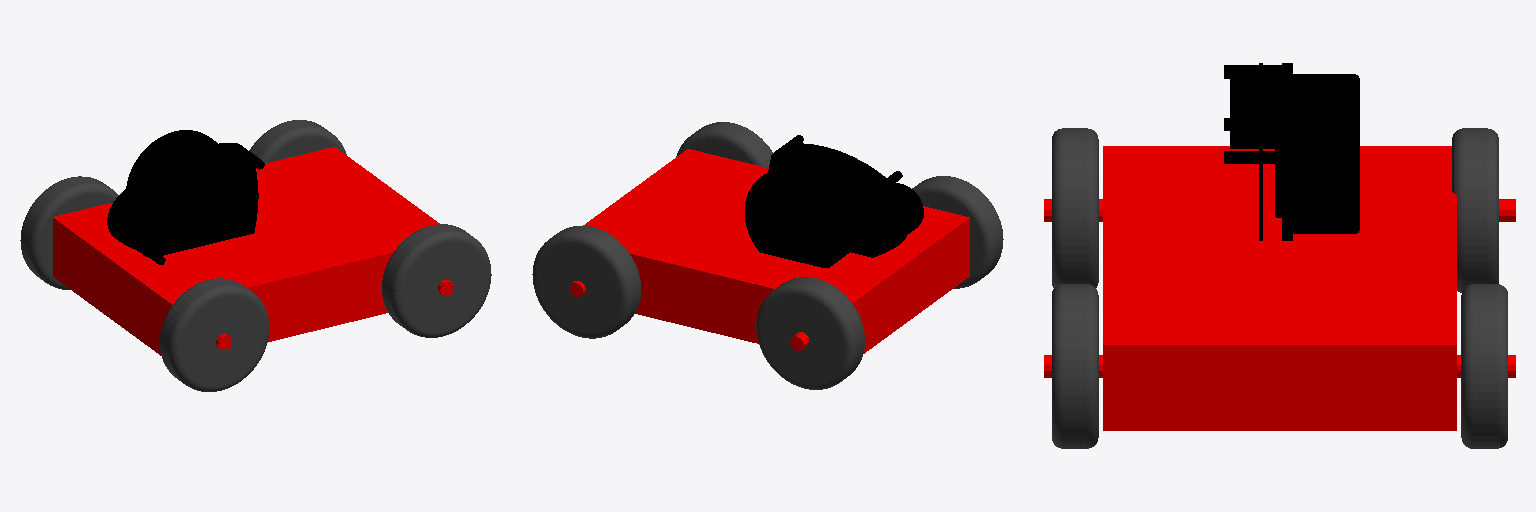
URDF robot description (model):
<?xml version="1.0" encoding="utf-8"?>
<!-- This URDF was automatically created by SolidWorks to URDF Exporter! Originally created by [author] ([email redacted]) 
     Commit Version: 1.5.1-0-g916b5db  Build Version: 1.5.7152.31018
     For more information, please see http://wiki.ros.org/sw_urdf_exporter -->
<robot
  name="model">
  <link
    name="base_link">
    <inertial>
      <origin
        xyz="-0.24468 -0.032762 0.15137"
        rpy="0 0 0" />
      <mass
        value="0.41067" />
      <inertia
        ixx="1"
        ixy="2.8611E-20"
        ixz="-2.4187E-20"
        iyy="1"
        iyz="2.3129E-20"
        izz="1" />
    </inertial>
    <visual>
      <origin
        xyz="0 0 0"
        rpy="0 0 0" />
      <geometry>
        <mesh
          filename="package://model/meshes/base_link.STL" />
      </geometry>
      <material
        name="">
        <color
          rgba="255 0 0 255" />
      </material>
    </visual>
    <collision>
      <origin
        xyz="0 0 0"
        rpy="0 0 0" />
      <geometry>
        <mesh
          filename="package://model/meshes/base_link.STL" />
      </geometry>
    </collision>
  </link>
  <gazebo reference="base_link">
    <material>Gazebo/Orange</material>
  </gazebo>
  <link
    name="wheelLF">
    <inertial>
      <origin
        xyz="-5.5511E-17 -6.9389E-18 0.01"
        rpy="0 0 0" />
      <mass
        value="0.073114" />
      <inertia
        ixx="2.4579E-05"
        ixy="-1.4998E-40"
        ixz="-8.8233E-24"
        iyy="2.4579E-05"
        iyz="-3.3694E-38"
        izz="4.4495E-05" />
    </inertial>
    <visual>
      <origin
        xyz="0 0 0"
        rpy="0 0 0" />
      <geometry>
        <mesh
          filename="package://model/meshes/wheelLF.STL" />
      </geometry>
      <material
        name="">
        <color
          rgba="0.29804 0.29804 0.29804 1" />
      </material>
    </visual>
    <collision>
      <origin
        xyz="0 0 0"
        rpy="0 0 0" />
      <geometry>
        <mesh
          filename="package://model/meshes/wheelLF.STL" />
      </geometry>
    </collision>
  </link>
  <gazebo reference="wheelLF">
    <material>Gazebo/Black</material>
  </gazebo>
  <joint
    name="jointLF"
    type="continuous">
    <origin
      xyz="-0.3229 -0.22837 -0.032762"
      rpy="1.5708 0 0" />
    <parent
      link="base_link" />
    <child
      link="wheelLF" />
    <axis
      xyz="0 0 1" />
  </joint>
  <link
    name="wheelRF">
    <inertial>
      <origin
        xyz="5.5511E-17 0 0.01"
        rpy="0 0 0" />
      <mass
        value="0.073114" />
      <inertia
        ixx="2.4579E-05"
        ixy="-1.4998E-40"
        ixz="2.7352E-22"
        iyy="2.4579E-05"
        iyz="-3.3694E-38"
        izz="4.4495E-05" />
    </inertial>
    <visual>
      <origin
        xyz="0 0 0"
        rpy="0 0 0" />
      <geometry>
        <mesh
          filename="package://model/meshes/wheelRF.STL" />
      </geometry>
      <material
        name="">
        <color
          rgba="0.29804 0.29804 0.29804 1" />
      </material>
    </visual>
    <collision>
      <origin
        xyz="0 0 0"
        rpy="0 0 0" />
      <geometry>
        <mesh
          filename="package://model/meshes/wheelRF.STL" />
      </geometry>
    </collision>
  </link>
  <gazebo reference="wheelRF">
    <material>Gazebo/Black</material>
  </gazebo>
  <joint
    name="jointRF"
    type="continuous">
    <origin
      xyz="-0.3229 -0.058371 -0.032762"
      rpy="1.5708 0 0" />
    <parent
      link="base_link" />
    <child
      link="wheelRF" />
    <axis
      xyz="0 0 1" />
  </joint>
  <link
    name="wheelLB">
    <inertial>
      <origin
        xyz="0 0 0.01"
        rpy="0 0 0" />
      <mass
        value="0.073114" />
      <inertia
        ixx="2.4579E-05"
        ixy="4.2352E-22"
        ixz="9.5316E-22"
        iyy="2.4579E-05"
        iyz="1.6908E-22"
        izz="4.4495E-05" />
    </inertial>
    <visual>
      <origin
        xyz="0 0 0"
        rpy="0 0 0" />
      <geometry>
        <mesh
          filename="package://model/meshes/wheelLB.STL" />
      </geometry>
      <material
        name="">
        <color
          rgba="0.29804 0.29804 0.29804 1" />
      </material>
    </visual>
    <collision>
      <origin
        xyz="0 0 0"
        rpy="0 0 0" />
      <geometry>
        <mesh
          filename="package://model/meshes/wheelLB.STL" />
      </geometry>
    </collision>
  </link>
  <gazebo reference="wheelLB">
    <material>Gazebo/Black</material>
  </gazebo>
  <joint
    name="jointLB"
    type="continuous">
    <origin
      xyz="-0.16645 -0.22837 -0.032762"
      rpy="1.5708 0.28207 0" />
    <parent
      link="base_link" />
    <child
      link="wheelLB" />
    <axis
      xyz="0 0 1" />
  </joint>
  <link
    name="wheelRB">
    <inertial>
      <origin
        xyz="-3.4694E-18 5.5511E-17 0.01"
        rpy="0 0 0" />
      <mass
        value="0.073114" />
      <inertia
        ixx="2.4579E-05"
        ixy="-2.1176E-22"
        ixz="4.6884E-22"
        iyy="2.4579E-05"
        iyz="-1.0642E-24"
        izz="4.4495E-05" />
    </inertial>
    <visual>
      <origin
        xyz="0 0 0"
        rpy="0 0 0" />
      <geometry>
        <mesh
          filename="package://model/meshes/wheelRB.STL" />
      </geometry>
      <material
        name="">
        <color
          rgba="0.29804 0.29804 0.29804 1" />
      </material>
    </visual>
    <collision>
      <origin
        xyz="0 0 0"
        rpy="0 0 0" />
      <geometry>
        <mesh
          filename="package://model/meshes/wheelRB.STL" />
      </geometry>
    </collision>
  </link>
  <gazebo reference="wheelRB">
    <material>Gazebo/Black</material>
  </gazebo>
  <joint
    name="jointRB"
    type="continuous">
    <origin
      xyz="-0.16645 -0.054371 -0.032762"
      rpy="1.5708 1.5064 0" />
    <parent
      link="base_link" />
    <child
      link="wheelRB" />
    <axis
      xyz="0 0 1" />
  </joint>
  <link
    name="lidar">
    <inertial>
      <origin
        xyz="0 0 0"
        rpy="0 0 0" />
      <mass
        value="0" />
      <inertia
        ixx="0"
        ixy="0"
        ixz="0"
        iyy="0"
        iyz="0"
        izz="0" />
    </inertial>
    <visual>
      <origin
        xyz="0 0 0"
        rpy="0 0 0" />
      <geometry>
        <mesh
          filename="package://model/meshes/lidar.STL" />
      </geometry>
      <material
        name="">
        <color
          rgba="0 0 0 255" />
      </material>
    </visual>
    <collision>
      <origin
        xyz="0 0 0"
        rpy="0 0 0" />
      <geometry>
        <mesh
          filename="package://model/meshes/lidar.STL" />
      </geometry>
    </collision>
  </link>
  <gazebo reference="lidar">
    <material>Gazebo/Black</material>
  </gazebo>
  <joint
    name="lidarjoint"
    type="fixed">
    <origin
      xyz="-0.29589 -0.15066 0.011838"
      rpy="0 3.14 0" />
    <parent
      link="base_link" />
    <child
      link="lidar" />h
    <axis
      xyz="0 0 0" />
  </joint>
    <gazebo reference="lidar">
    <sensor type="ray" name="head_hokuyo_sensor">
      <pose> 0 0 0 0 0 0 </pose>
      <visualize>true</visualize>
      <update_rate>40</update_rate>
      <ray>
        <scan>
          <horizontal>
            <samples>720</samples>
            <resolution>1</resolution>
            <min_angle>-1.57</min_angle>
            <max_angle>1.57</max_angle>
          </horizontal>
        </scan>
        <range>
          <min>0.10</min>
          <max>30.0</max>
          <resolution>0.01</resolution>
        </range>
        <noise>
          <type>gaussian</type>
          <!-- Noise parameters based on published spec for Hokuyo laser
               achieving "+-30mm" accuracy at range < 10m.  A mean of 0.0m and
               stddev of 0.01m will put 99.7% of samples within 0.03m of the true
               reading. -->
          <mean>0.0</mean>
          <stddev>0.01</stddev>
        </noise>
      </ray>
      <plugin name="gazebo_ros_head_hokuyo_controller" filename="libgazebo_ros_laser.so">
        <topicName>/rrbot/laser/scan</topicName>
	<robotNamespace>/</robotNamespace>
        <frameName>lidar</frameName>

      </plugin>
    </sensor>
  </gazebo>
 <gazebo>
  <plugin name="skid_steer_drive_controller" filename="libgazebo_ros_skid_steer_drive.so">
    <updateRate>100.0</updateRate>
    <leftFrontJoint>jointLF</leftFrontJoint>
    <rightFrontJoint>jointRF</rightFrontJoint>
    <leftRearJoint>jointLB</leftRearJoint>
    <rightRearJoint>jointRB</rightRearJoint>
    <wheelSeparation>0.4</wheelSeparation>
    <wheelDiameter>0.25</wheelDiameter>
    <robotBaseFrame>base_link</robotBaseFrame>
    <torque>5</torque>
    <commandTopic>turtle1/cmd_vel</commandTopic>
    <broadcastTF>true</broadcastTF>
    <odometryTopic>odom</odometryTopic>

    <!-- Odometry frame, defaults to `odom` -->
    <odometryFrame>odom</odometryFrame>

    <!-- Robot frame to calculate odometry from, defaults to `base_footprint` -->
    <robotBaseFrame>base_link</robotBaseFrame>

    <!-- Odometry source, 0 for ENCODER, 1 for WORLD, defaults to WORLD -->
    <odometrySource>1</odometrySource>

    <!-- Set to true to publish transforms for the wheel links, defaults to false -->
    <publishWheelTF>true</publishWheelTF>

    <!-- Set to true to publish transforms for the odometry, defaults to true -->
    <publishOdom>true</publishOdom>

    <!-- Set to true to publish sensor_msgs/JointState on /joint_states for the wheel joints, defaults to false -->
    <publishWheelJointState>true</publishWheelJointState>

  </plugin>
</gazebo>
</robot>

--- What the picture shows (computed from the rendered views, not written in the file) ---
The picture shows the robot from 3 angles, left to right: view 1: azimuth 30°, elevation 25°; view 2: azimuth 150°, elevation 25°; view 3: azimuth 270°, elevation 25°; orthographic projection.
Robot: model — 6 links, 5 joints (4 continuous, 1 fixed); root link base_link; default pose: all joints at 0.
Links seen in each view (by area): view 1: base_link, lidar, wheelLF, wheelLB, wheelRF, wheelRB; view 2: base_link, lidar, wheelRB, wheelRF, wheelLF, wheelLB; view 3: base_link, lidar, wheelRB, wheelLB, wheelLF, wheelRF.
Link boxes in pixels (x1=…): base_link: x1=53, y1=147, x2=453, y2=355; lidar: x1=107, y1=130, x2=264, y2=264; wheelLF: x1=160, y1=278, x2=269, y2=391; wheelLB: x1=382, y1=224, x2=491, y2=337; wheelRF: x1=20, y1=176, x2=118, y2=289; wheelRB: x1=249, y1=120, x2=346, y2=163; base_link: x1=569, y1=149, x2=969, y2=353; lidar: x1=745, y1=135, x2=923, y2=267; wheelRB: x1=532, y1=226, x2=640, y2=338; wheelRF: x1=756, y1=277, x2=864, y2=389; wheelLF: x1=912, y1=176, x2=1003, y2=288; wheelLB: x1=676, y1=122, x2=772, y2=167; base_link: x1=1044, y1=146, x2=1515, y2=430; lidar: x1=1224, y1=63, x2=1359, y2=240; wheelRB: x1=1461, y1=284, x2=1507, y2=448; wheelLB: x1=1052, y1=284, x2=1098, y2=448; wheelLF: x1=1052, y1=128, x2=1098, y2=287; wheelRF: x1=1452, y1=128, x2=1498, y2=292.
Size in the robot's own frame: 0.2264 by 0.2 by 0.1146 metres.
6 mesh visuals loaded from 6 distinct referenced files (6 binary STL).
